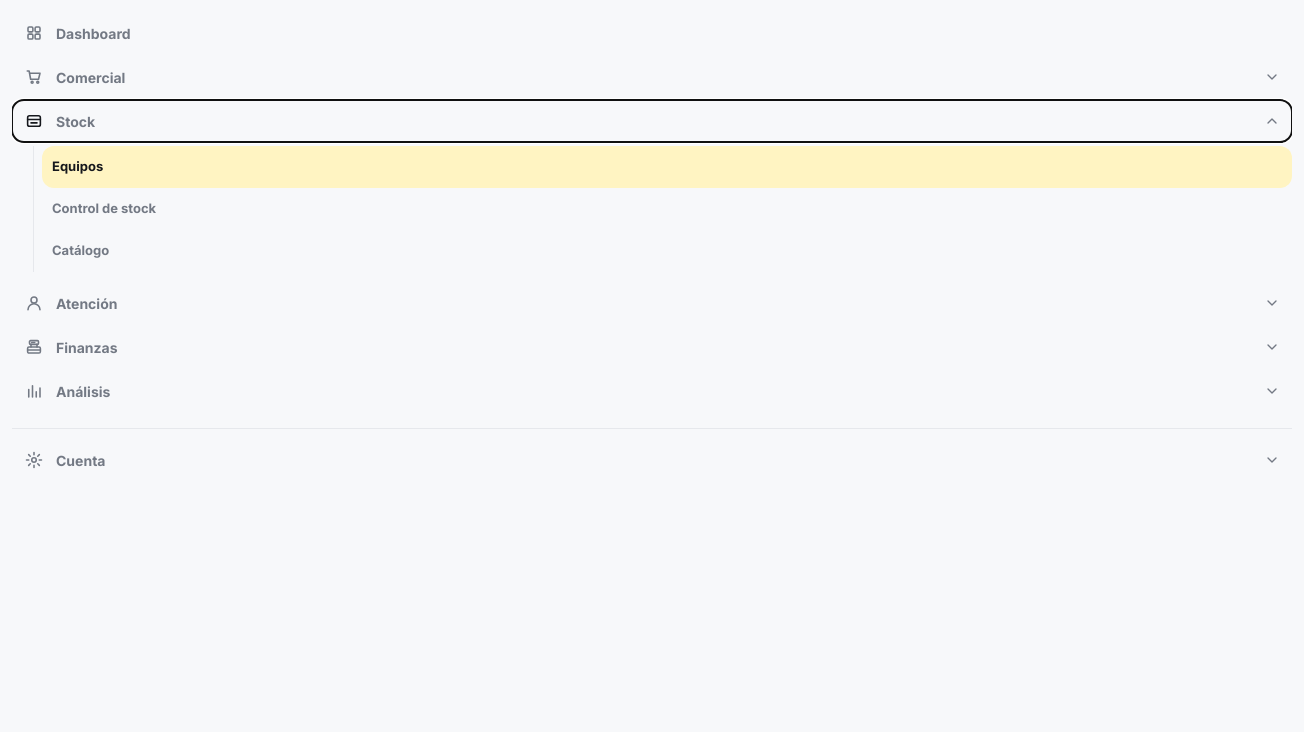
it: sidenav accordion › opens the current route, allows all closed and uses Enter/Space without navigating
Press Enter
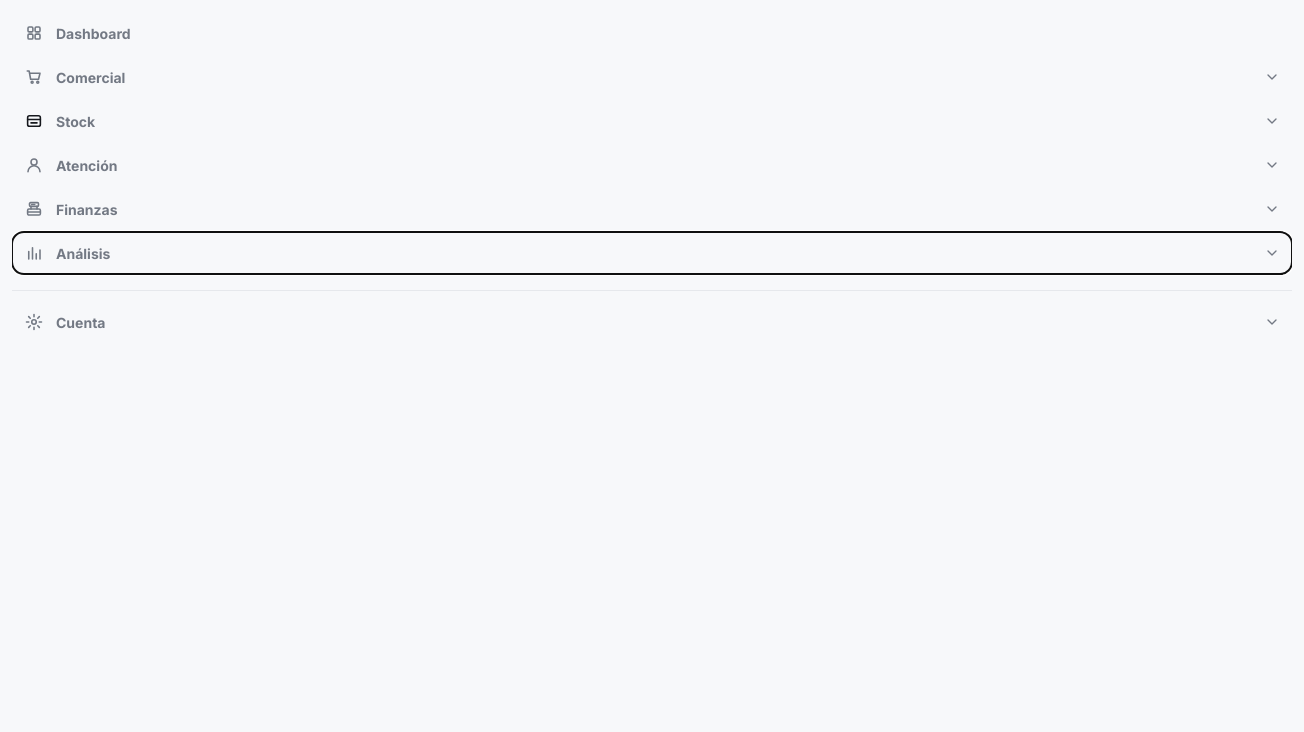
Now the button "Stock" is collapsed, box [12,100,1292,142]
Now the button "Equipos" is gone
Type keys " "
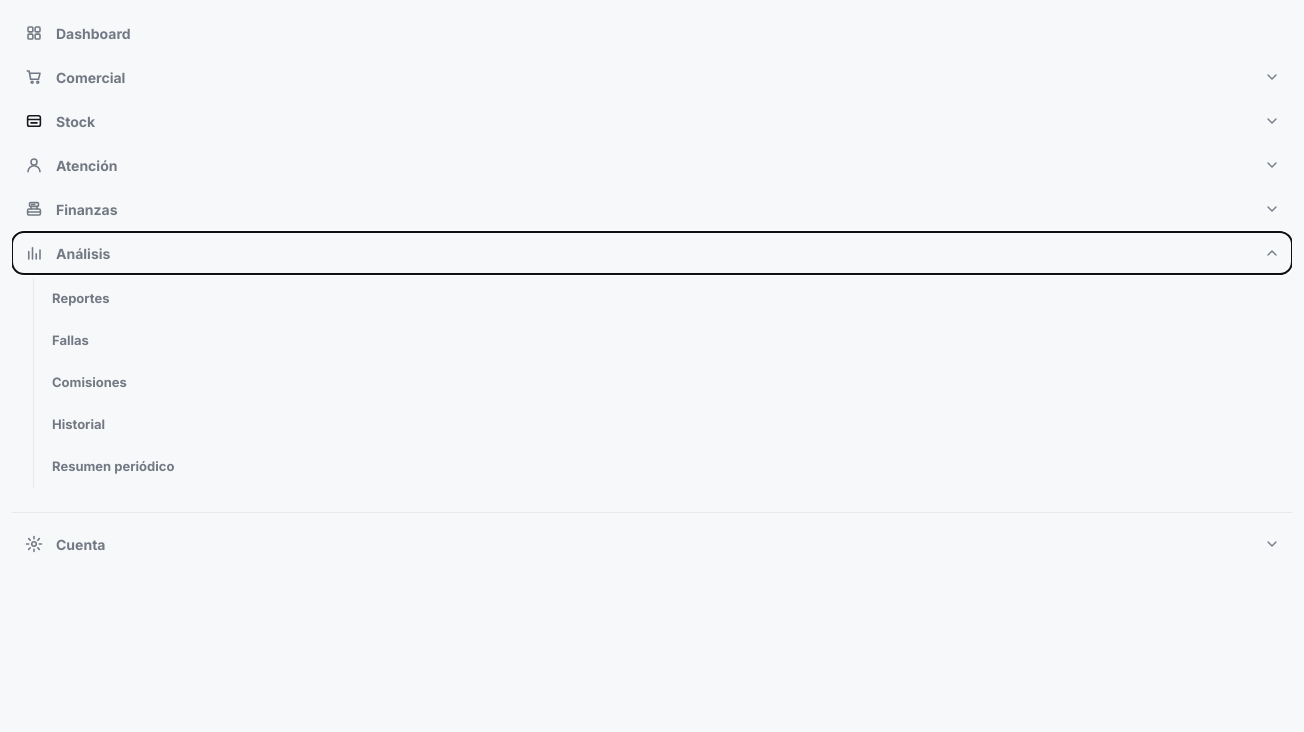
Now the button "Análisis" is expanded, box [12,232,1292,274]
Click the button "Stock" at (76, 121), box [12,100,1292,142]
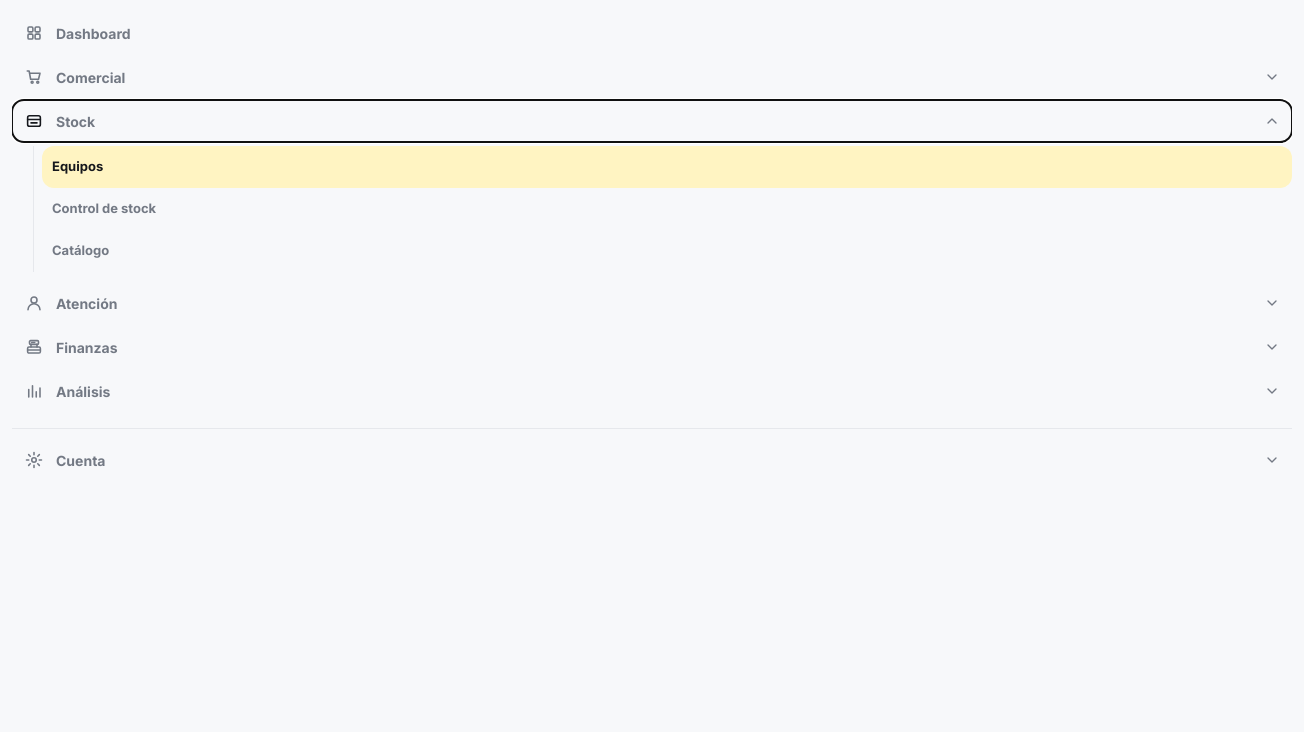
Now the button "Análisis" is collapsed, box [12,370,1292,412]
Now the button "Stock" is expanded, box [12,100,1292,142]
